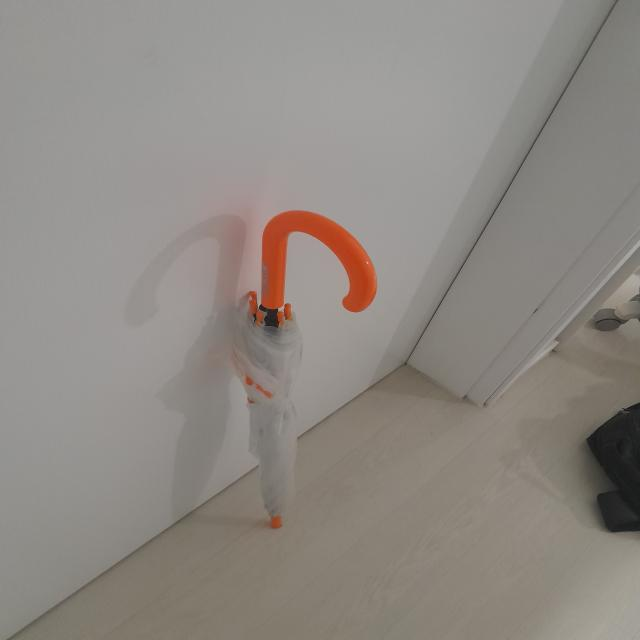umbrella: (220, 210, 381, 531)
